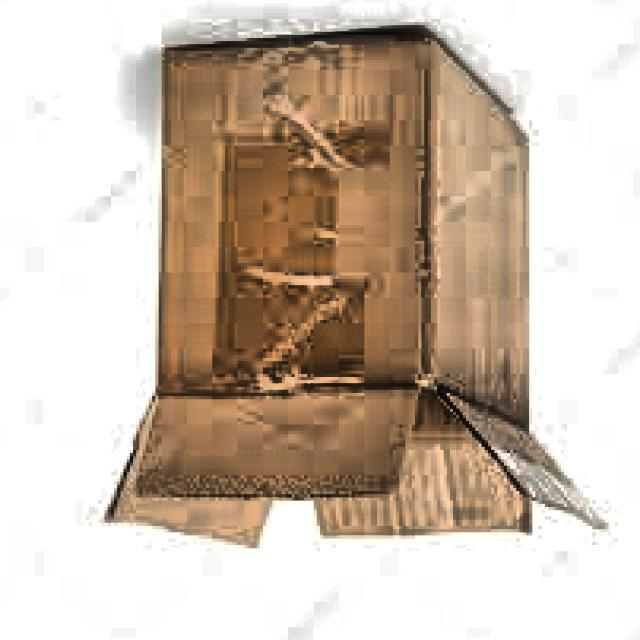cardboard: (104, 29, 608, 552)
